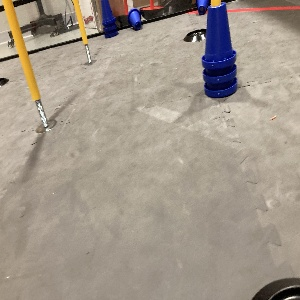Blue_1: (125, 9, 142, 31), (195, 0, 209, 14)
Blue_3: (202, 5, 236, 102), (99, 0, 120, 40)
